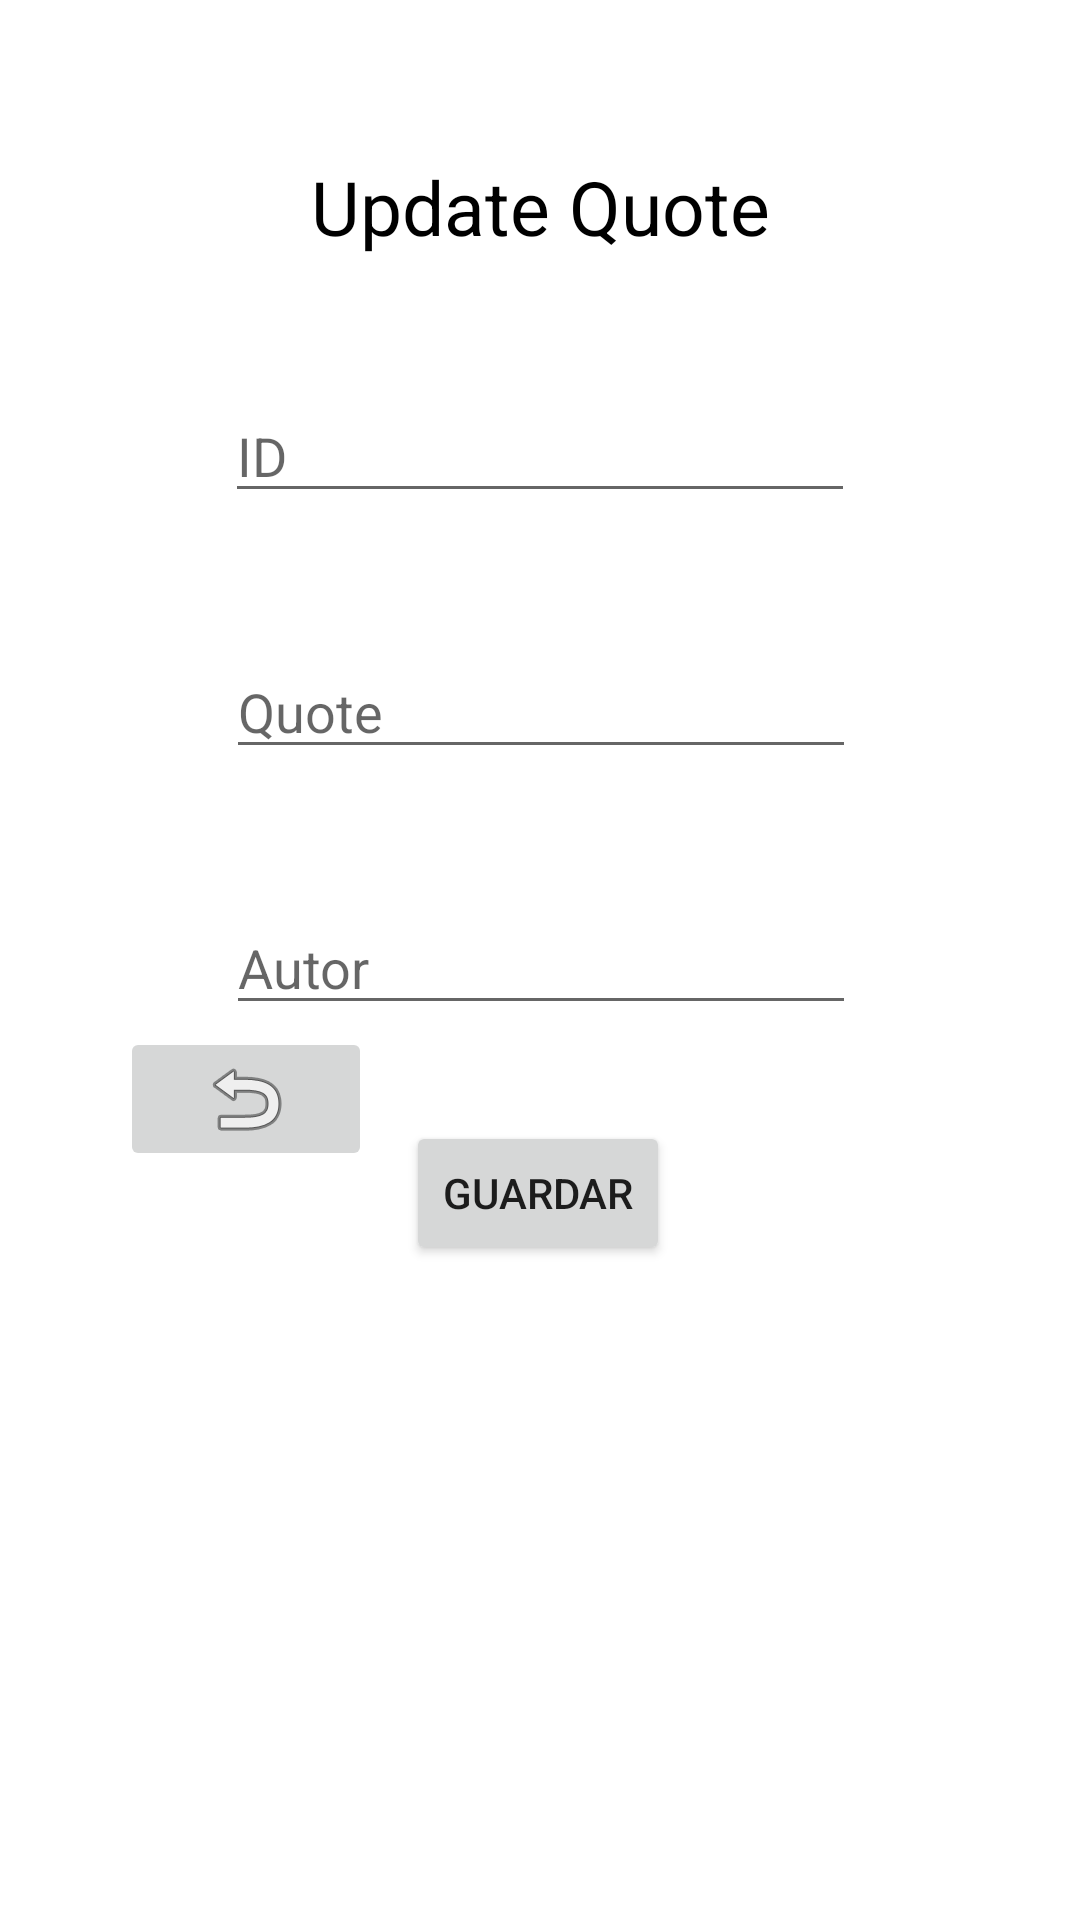

Icon bounding boxes for this 1080×1920 phone screenshot, format (x1, y1, x2, y2):
revert: (132, 1045, 360, 1153)
